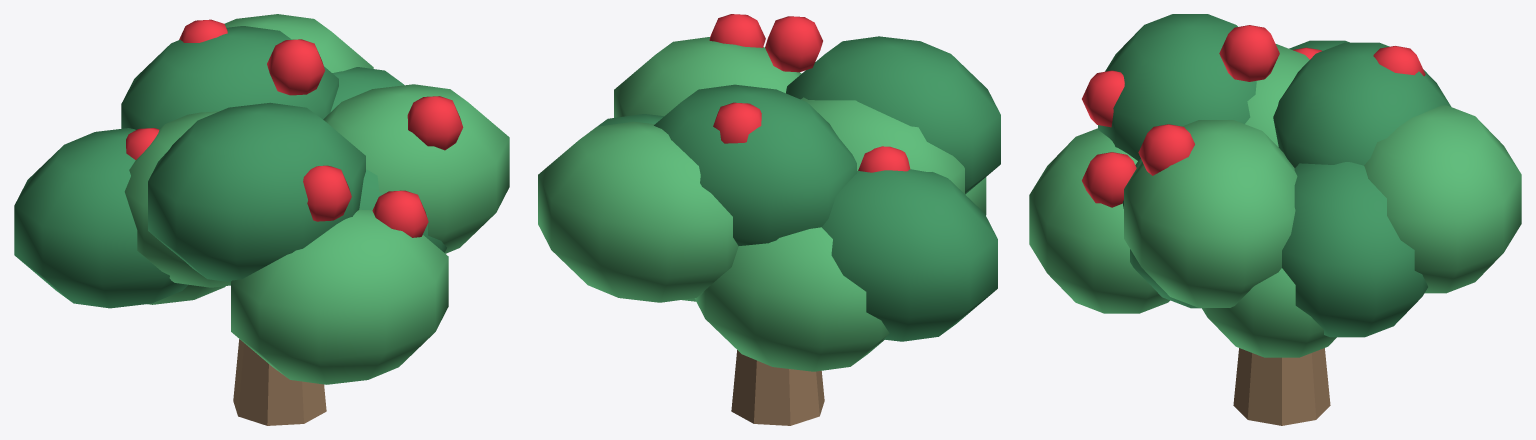
Rendered from berry_bush.glb.
3 views of the same model, side by side, from view 1: azimuth 30°, elevation 25°; view 2: azimuth 150°, elevation 25°; view 3: azimuth 270°, elevation 25° (orthographic).
Visible parts, largest first — view 1: berry_bush_root; view 2: berry_bush_root; view 3: berry_bush_root.
Part boxes in pixels (box(x1,y1,x2,y2)): berry_bush_root: box(14, 14, 509, 425); berry_bush_root: box(538, 14, 1000, 425); berry_bush_root: box(1029, 14, 1521, 425).
Bounding box in the file's own units: 1.25 × 1.1 × 1.29.
